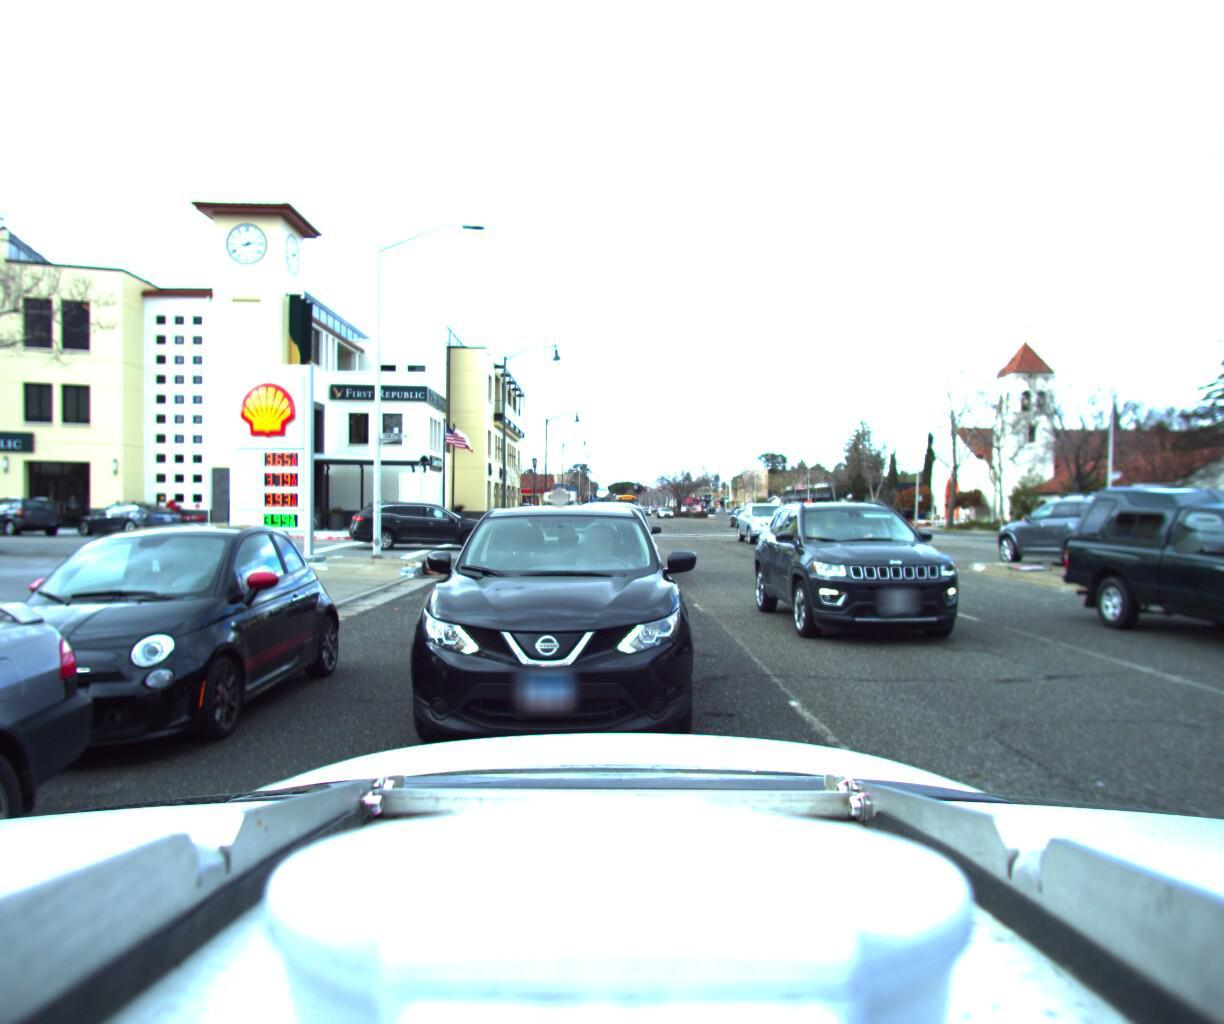car: (383, 492, 697, 796), (0, 518, 339, 797), (752, 491, 1011, 653), (1098, 463, 1224, 704), (981, 484, 1192, 575), (302, 493, 458, 546), (556, 495, 652, 573), (66, 494, 191, 536), (733, 494, 799, 540), (0, 492, 68, 536), (542, 479, 578, 521), (501, 494, 551, 513)
